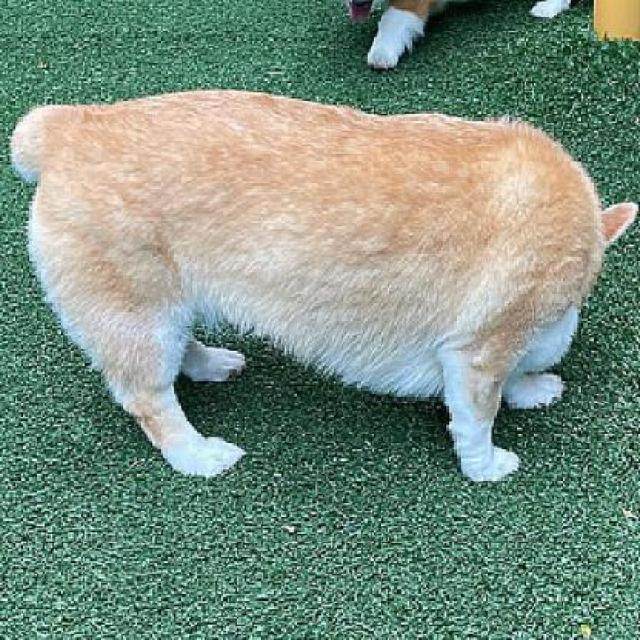Dog: (12, 77, 638, 488)
